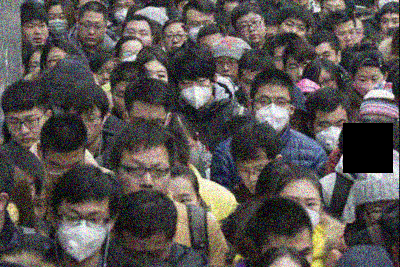with_mask: (58, 205, 110, 264), (252, 94, 292, 135), (281, 194, 321, 232), (313, 115, 349, 152), (177, 77, 213, 111), (185, 18, 214, 44), (355, 72, 384, 98), (47, 12, 69, 37), (112, 1, 135, 24)
without_mask: (115, 155, 171, 198), (5, 111, 42, 148), (235, 161, 272, 195), (41, 157, 84, 186), (111, 85, 148, 118), (69, 111, 103, 145), (236, 15, 267, 46), (77, 17, 105, 46), (21, 20, 48, 46), (215, 57, 240, 84), (162, 29, 188, 53), (285, 60, 310, 84), (334, 27, 358, 52), (123, 27, 152, 47), (280, 19, 307, 40), (380, 14, 400, 34), (96, 66, 114, 86)
